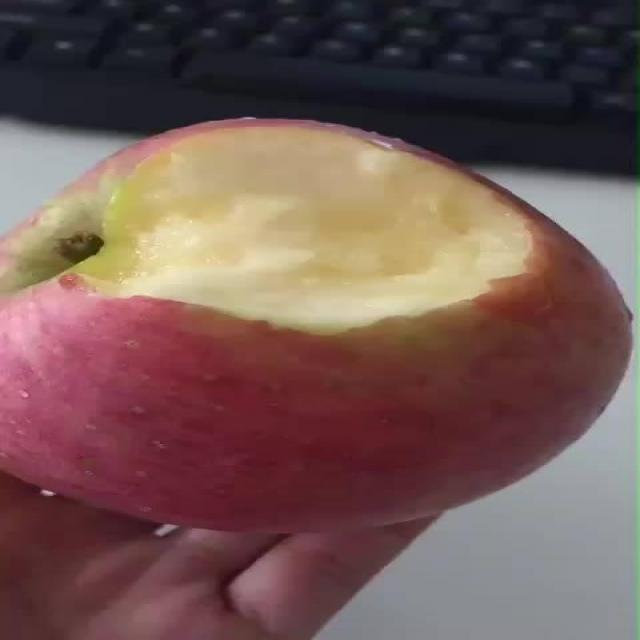Rotten: (0, 99, 637, 532)
